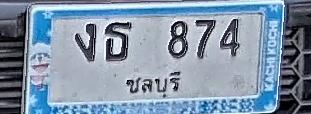4: (219, 18, 240, 56)
7: (194, 18, 216, 58)
8: (168, 20, 188, 58)
A07: (74, 22, 96, 62)
A24: (104, 20, 132, 60)
CBI: (122, 69, 182, 98)
